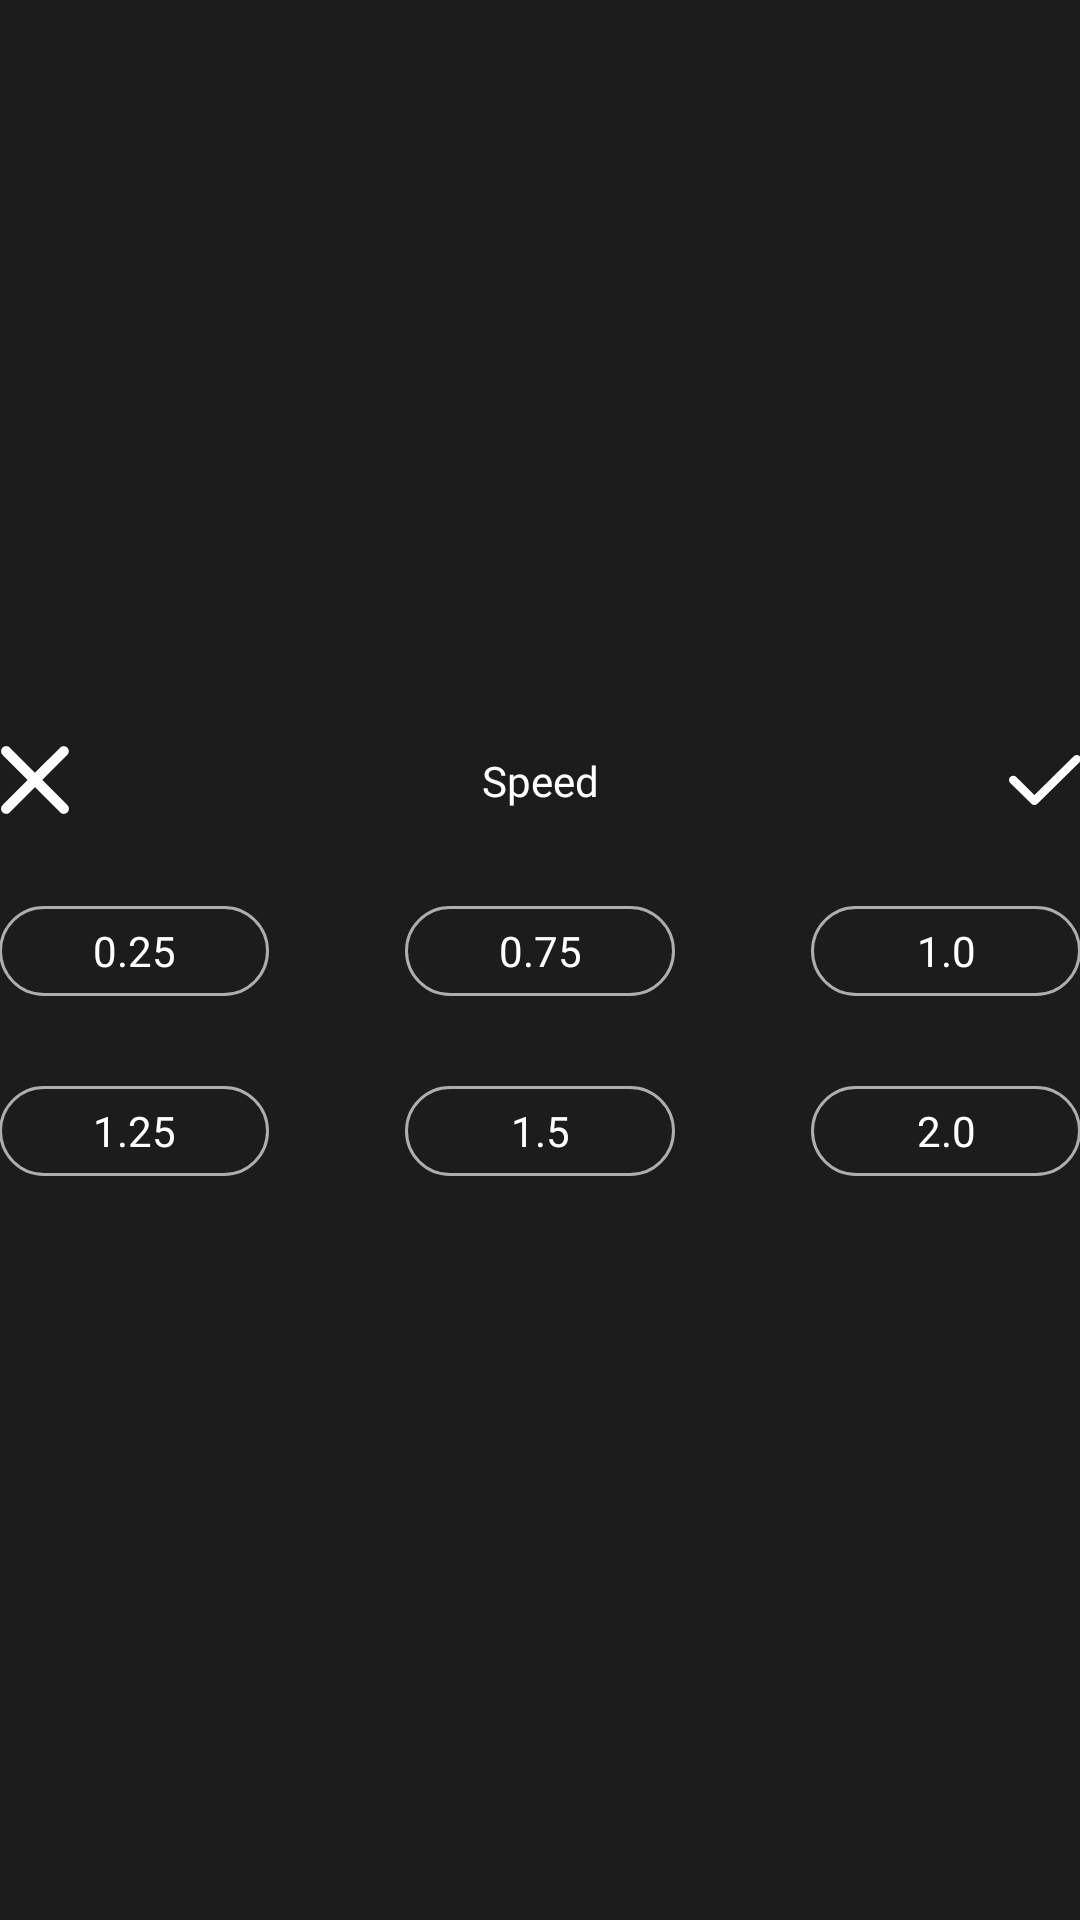

Named icons in this screenshot (1080px×1920px) and their centers, (x=x, y=y):
close: (x=35, y=780)
done: (x=1044, y=780)
